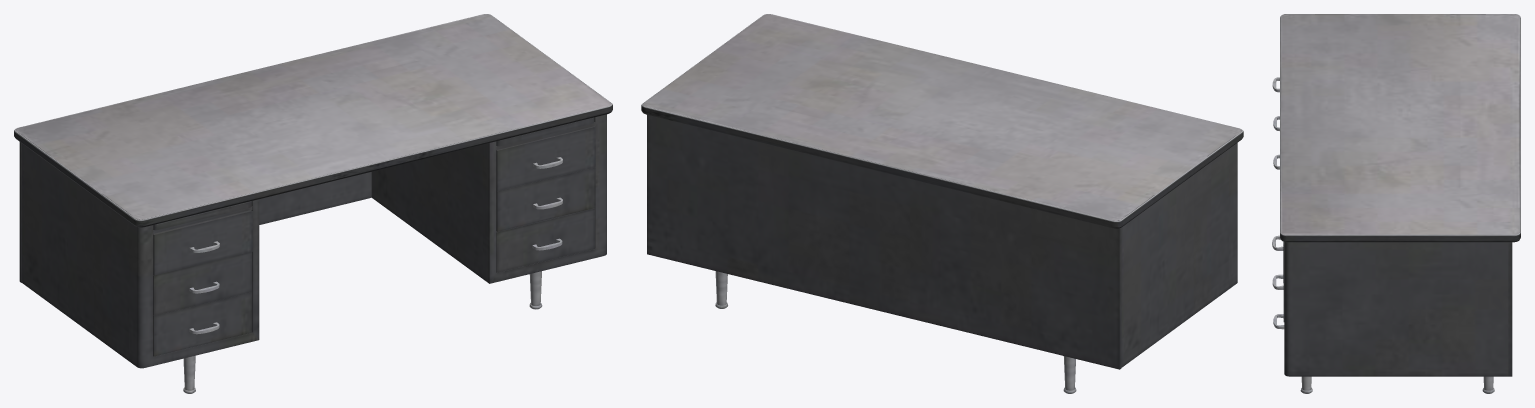
The model's file is metal_office_desk.glb.
3 renders of one model, left to right at view 1: azimuth 30°, elevation 25°; view 2: azimuth 150°, elevation 25°; view 3: azimuth 270°, elevation 25°, orthographic. The views are drawn at different scales.
Visible parts, largest first — view 1: metal_office_desk, metal_office_desk_drawer_04, metal_office_desk_drawer_01, metal_office_desk_drawer_02, metal_office_desk_drawer_03, metal_office_desk_drawer_06, metal_office_desk_drawer_05, metal_office_desk_tray_01, metal_office_desk_tray_02; view 2: metal_office_desk; view 3: metal_office_desk.
Part boxes in pixels (<box>): metal_office_desk: <box>14,14,612,393</box>; metal_office_desk_drawer_04: <box>153,210,252,275</box>; metal_office_desk_drawer_01: <box>496,126,595,191</box>; metal_office_desk_drawer_02: <box>496,167,595,231</box>; metal_office_desk_drawer_03: <box>496,208,594,272</box>; metal_office_desk_drawer_06: <box>153,292,251,356</box>; metal_office_desk_drawer_05: <box>153,252,251,315</box>; metal_office_desk_tray_01: <box>153,201,251,230</box>; metal_office_desk_tray_02: <box>496,117,594,146</box>; metal_office_desk: <box>641,14,1243,393</box>; metal_office_desk: <box>1280,14,1520,393</box>.
Bounding box in the file's own units: 2 × 0.7875 × 0.9472.
1 material, 1 textured.
